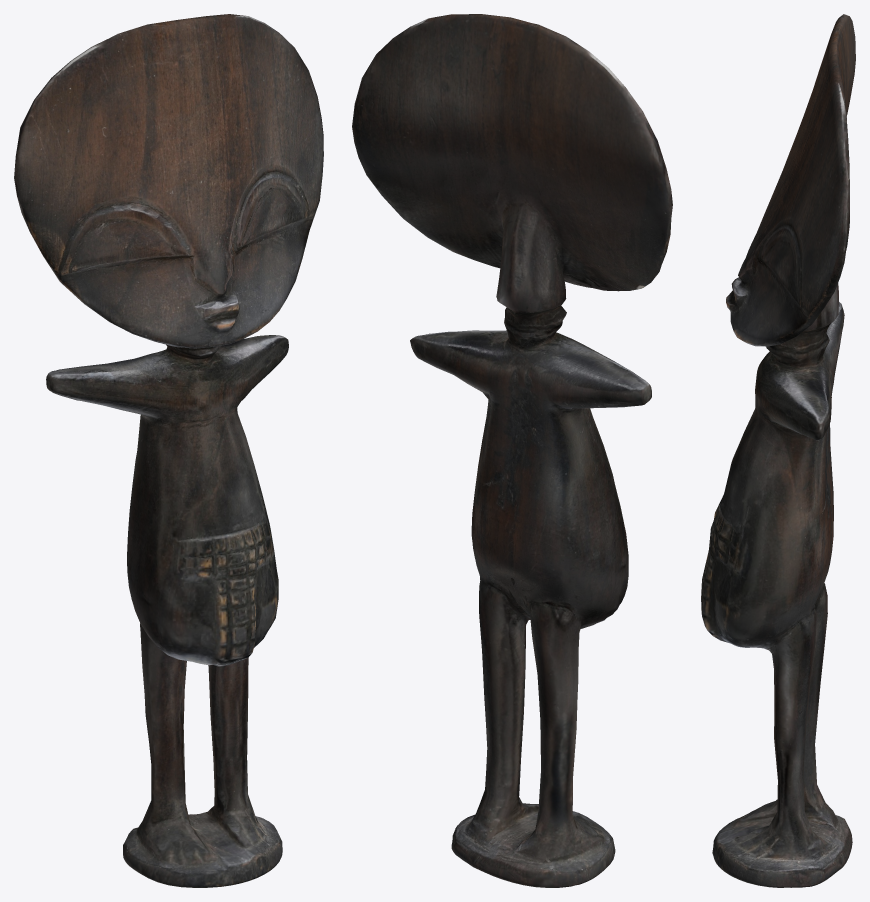
File: african_figurine.glb
3 views of the same model, side by side, from view 1: azimuth 30°, elevation 25°; view 2: azimuth 150°, elevation 25°; view 3: azimuth 270°, elevation 25° (orthographic). The views are drawn at different scales.
Visible parts, largest first — view 1: African Figurine; view 2: African Figurine; view 3: African Figurine.
Part boxes in pixels (bbox=[...]): African Figurine: bbox=[14, 14, 323, 887]; African Figurine: bbox=[352, 14, 672, 887]; African Figurine: bbox=[701, 14, 855, 887].
Size of the model in its own units: 0.1159 by 0.2972 by 0.0514.
1 material, 1 textured.
